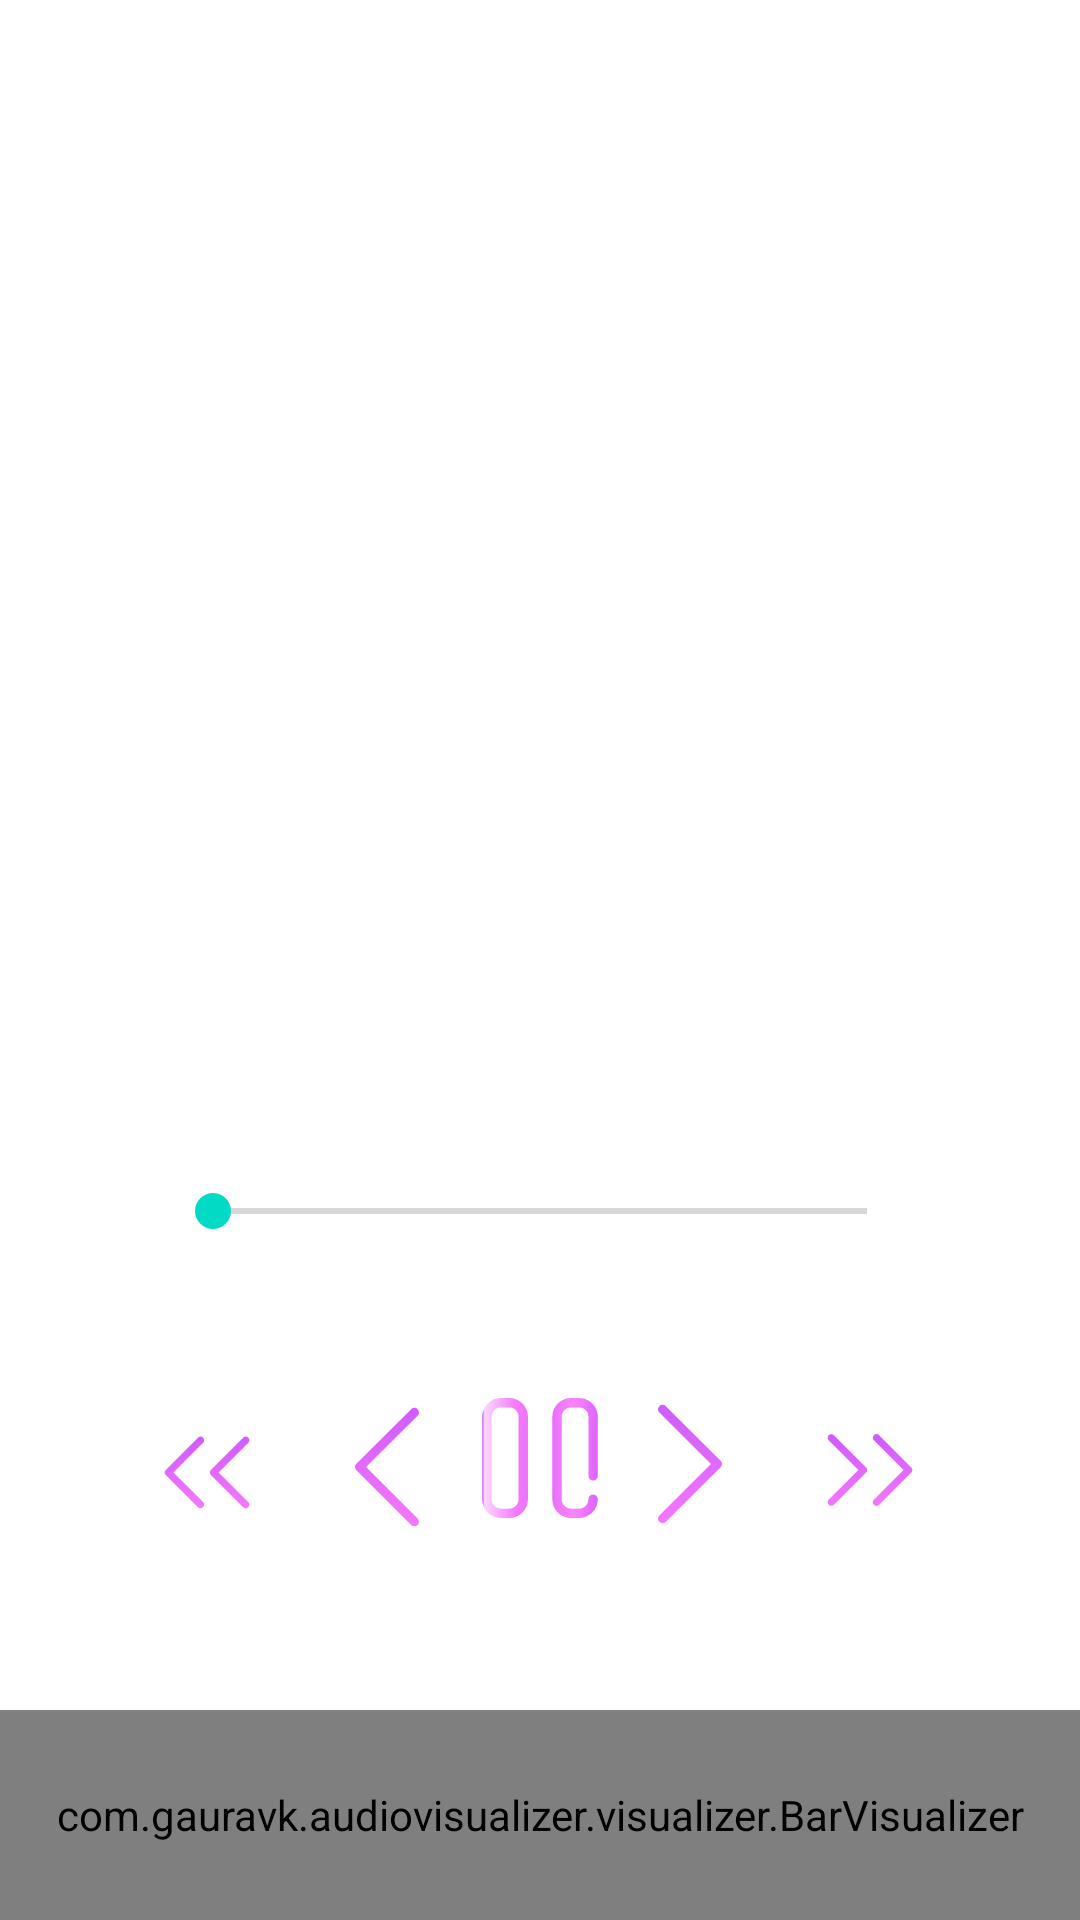

Screen size 1080 × 1920. Icon name, then its center in pixels as [x,y]:
fast forward: [870,1470]
fast rewind: [207,1472]
next: [690,1464]
pause: [540,1458]
prev: [387,1467]
